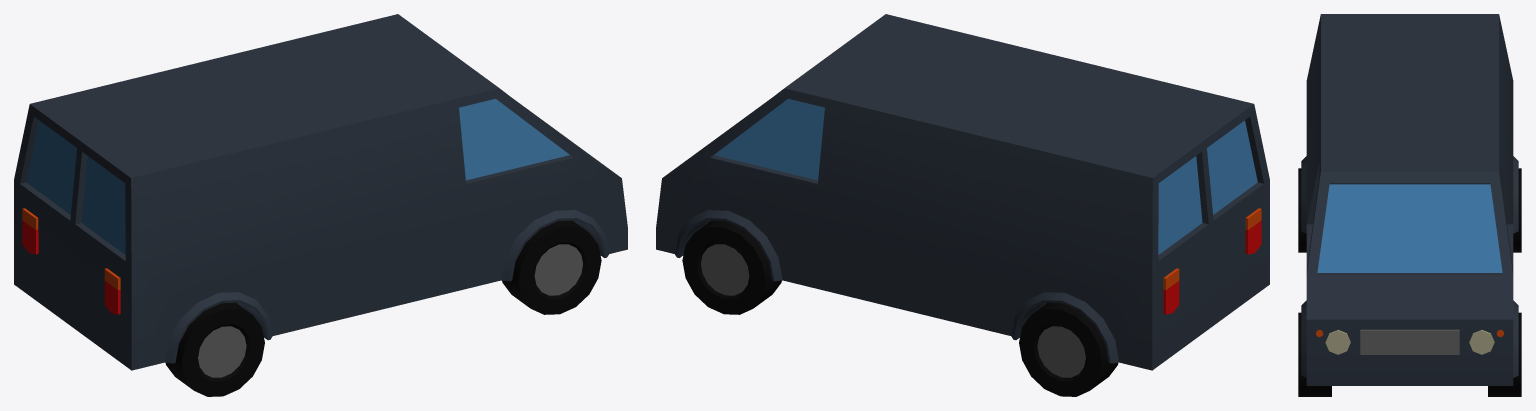
The model's file is car-van-silver.obj.
3 views of the same model, side by side, from view 1: azimuth 30°, elevation 25°; view 2: azimuth 150°, elevation 25°; view 3: azimuth 270°, elevation 25° (orthographic). The views are drawn at different scales.
Parts seen in each view (by area): view 1: car-van-silver_Cube.633_carmaterial_silver, car-van-silver_Cube.633_windows, car-van-silver_Cube.633_tires, car-van-silver_Cube.633_metal, car-van-silver_Cube.633_lights.red; view 2: car-van-silver_Cube.633_carmaterial_silver, car-van-silver_Cube.633_windows, car-van-silver_Cube.633_tires, car-van-silver_Cube.633_metal, car-van-silver_Cube.633_lights.red; view 3: car-van-silver_Cube.633_carmaterial_silver, car-van-silver_Cube.633_windows, car-van-silver_Cube.633_metal, car-van-silver_Cube.633_tires, car-van-silver_Cube.633_lights.
Boxes of the visible parts, left/top/right/bottom form: car-van-silver_Cube.633_carmaterial_silver: left=14, top=14, right=627, bottom=370; car-van-silver_Cube.633_windows: left=26, top=98, right=569, bottom=254; car-van-silver_Cube.633_tires: left=165, top=220, right=601, bottom=396; car-van-silver_Cube.633_metal: left=198, top=244, right=582, bottom=377; car-van-silver_Cube.633_lights.red: left=22, top=220, right=120, bottom=314; car-van-silver_Cube.633_carmaterial_silver: left=656, top=14, right=1269, bottom=370; car-van-silver_Cube.633_windows: left=714, top=98, right=1257, bottom=254; car-van-silver_Cube.633_tires: left=682, top=220, right=1118, bottom=396; car-van-silver_Cube.633_metal: left=701, top=244, right=1085, bottom=377; car-van-silver_Cube.633_lights.red: left=1163, top=220, right=1261, bottom=314; car-van-silver_Cube.633_carmaterial_silver: left=1301, top=14, right=1518, bottom=385; car-van-silver_Cube.633_windows: left=1317, top=184, right=1502, bottom=272; car-van-silver_Cube.633_metal: left=1360, top=329, right=1459, bottom=354; car-van-silver_Cube.633_tires: left=1298, top=168, right=1521, bottom=396; car-van-silver_Cube.633_lights: left=1325, top=330, right=1494, bottom=354.
Size of the model in its own units: 21.63 by 9.45 by 9.54.
